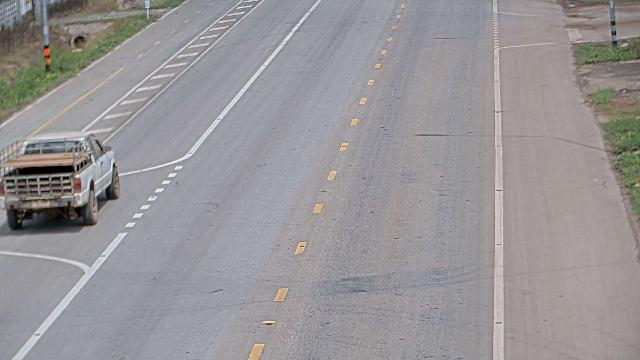pickup-truck: (0, 131, 120, 230)
